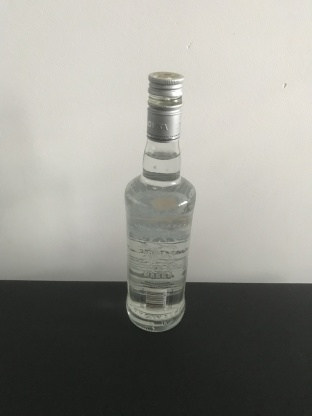nakretka: (145, 70, 184, 144)
